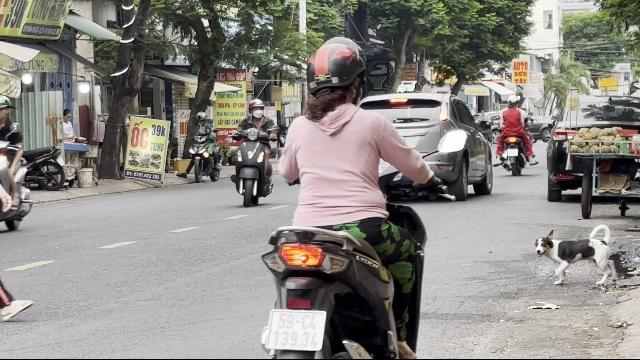helmet: (302, 38, 368, 112), (248, 98, 266, 118)
licenseplate: (267, 309, 325, 351)
motorcyclist: (254, 39, 440, 356), (228, 98, 276, 206)
